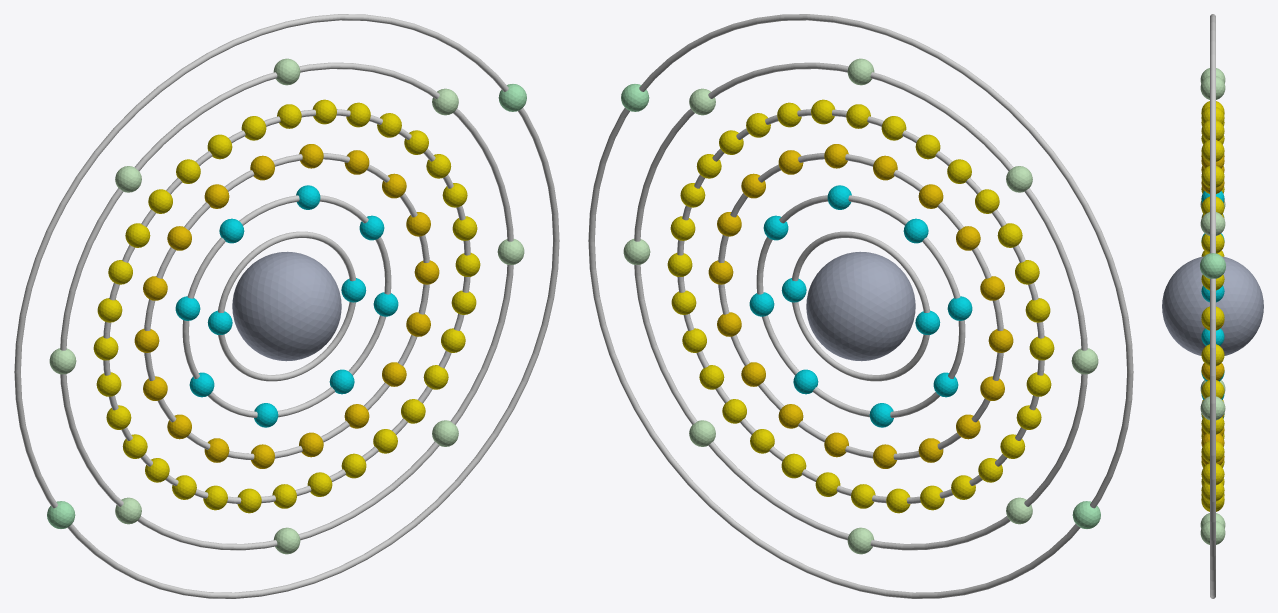
3 views of the same model, side by side, from view 1: azimuth 30°, elevation 25°; view 2: azimuth 150°, elevation 25°; view 3: azimuth 270°, elevation 25° (orthographic). The views are drawn at different scales.
Parts seen in each view (by area): view 1: world; view 2: world; view 3: world.
Part boxes in pixels (left/top/right/bottom): world: left=14, top=14, right=559, bottom=598; world: left=588, top=14, right=1133, bottom=598; world: left=1162, top=14, right=1263, bottom=598.
Bounding box in the file's own units: 2.53 × 2.53 × 0.44.
